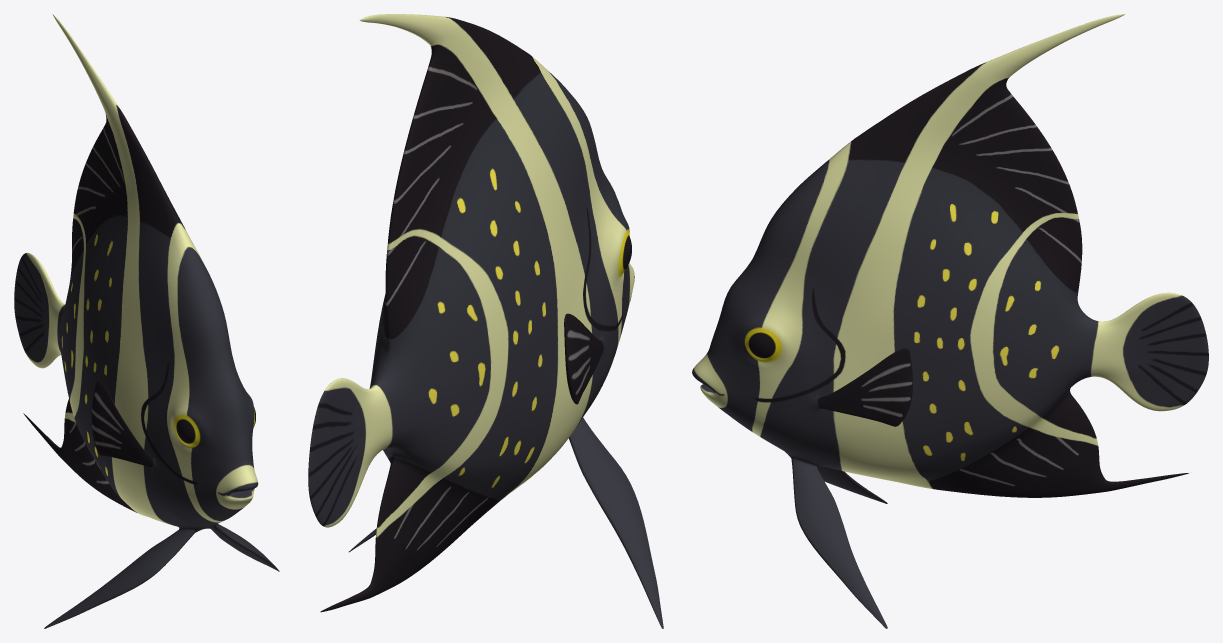
The model's file is Angel Fish.fbx.
The picture shows the model from 3 angles, left to right: view 1: azimuth 30°, elevation 25°; view 2: azimuth 150°, elevation 25°; view 3: azimuth 270°, elevation 25°; orthographic projection. The views are drawn at different scales.
Parts seen in each view (by area): view 1: node_id186; view 2: node_id186; view 3: node_id186.
Boxes of the visible parts, x1,y1,x2,y2 form: node_id186: (14, 14, 279, 628); node_id186: (308, 14, 663, 628); node_id186: (692, 14, 1208, 628).
Bounding box in the file's own units: 0.249 × 0.512 × 0.4342.
1 material, 1 textured.
